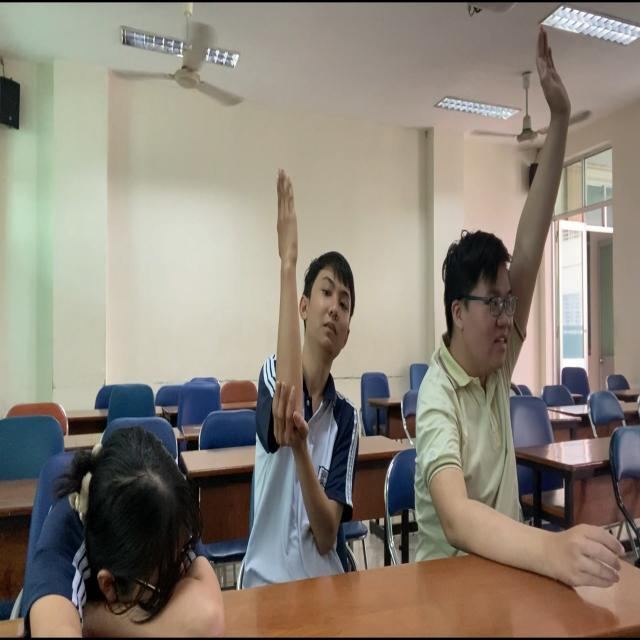raise_hand: (420, 29, 578, 544), (247, 167, 370, 595)
sleep: (17, 430, 227, 640)
